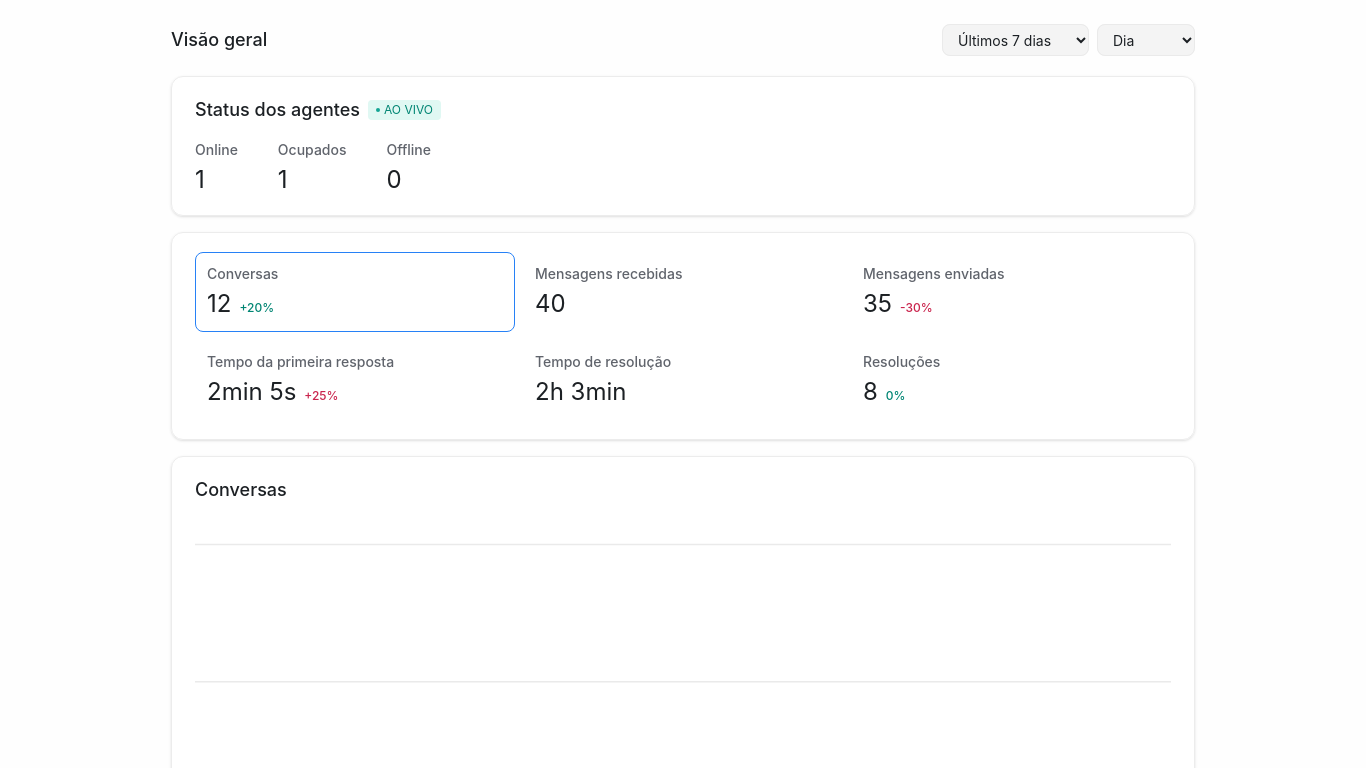
Test: reports overview › accepts a custom range and reports errors
The image size is (1366, 768).
Expected: the text "2min 5s" is shown, [207,376,296,408]
Select "Personalizado" in the dropdown named "Período" at coordinates (1016, 40), box [942,24,1089,56]
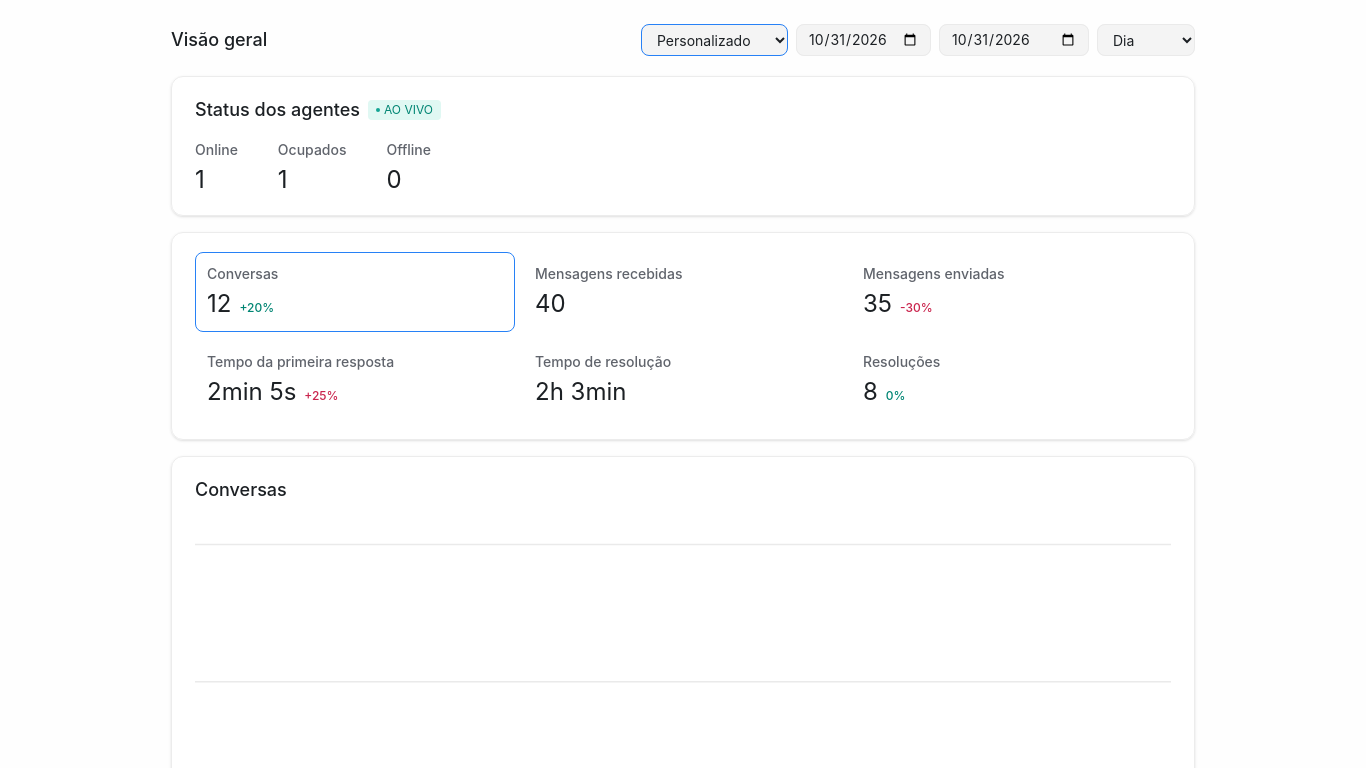
Type "2026-01-01" into the date field named "Data inicial" at coordinates (864, 40), box [796,24,931,56]
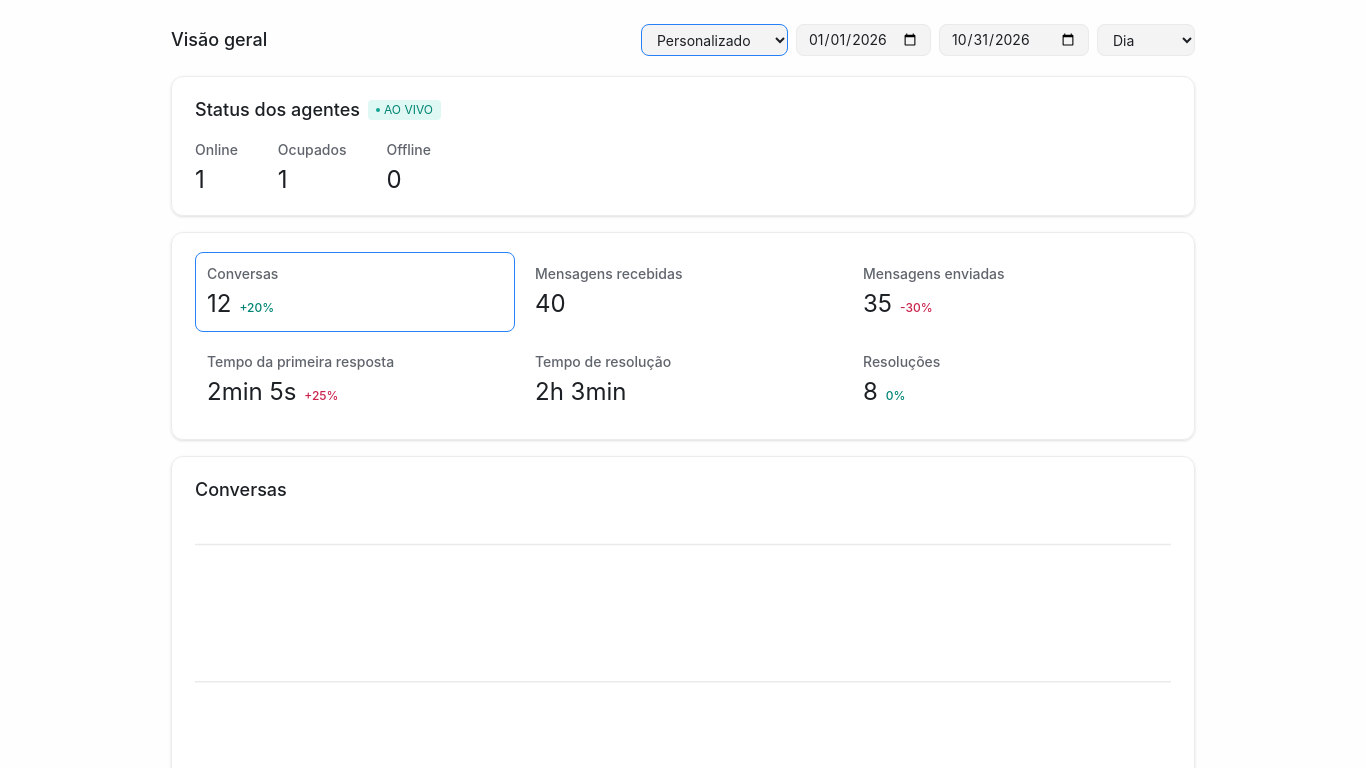
Type "2026-01-31" into the date field named "Data final" at coordinates (1014, 40), box [939,24,1089,56]
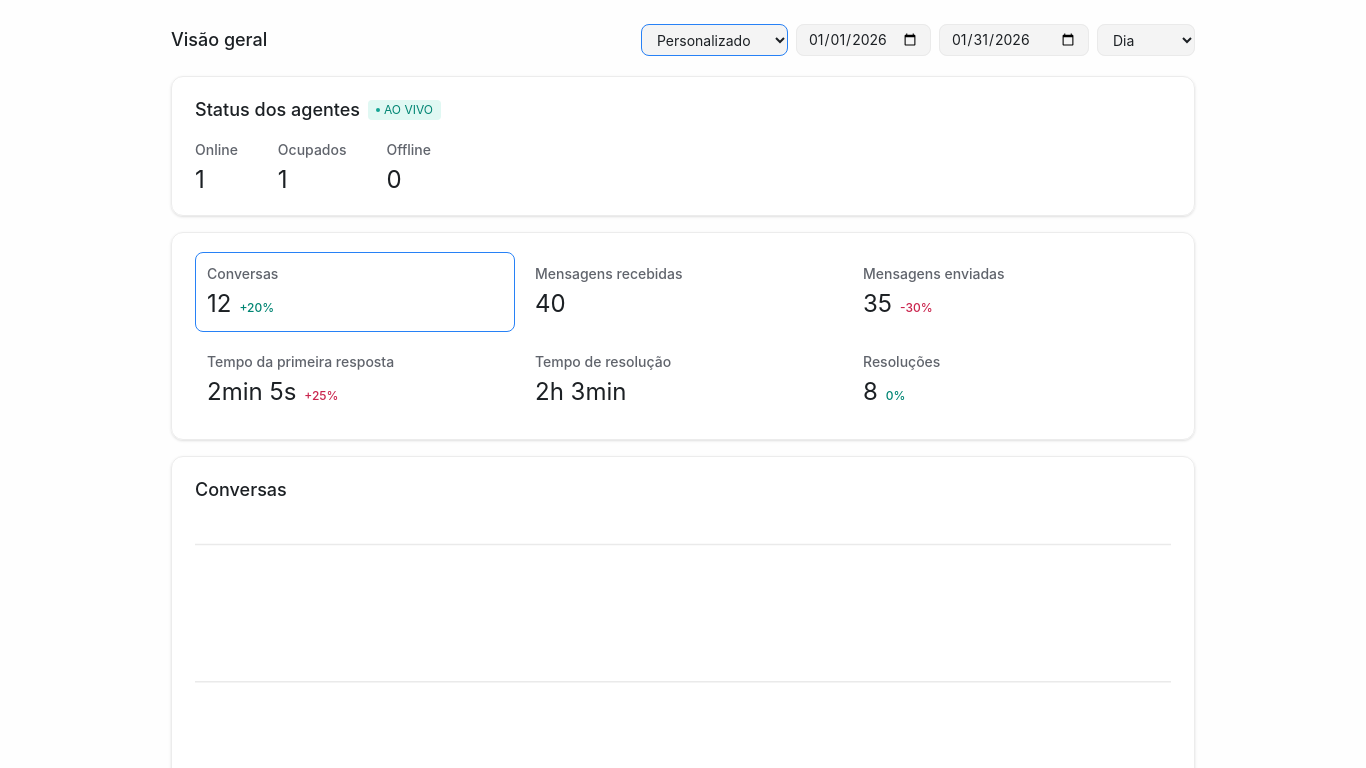
Select "Este mês" in the dropdown named "Período" at coordinates (714, 40), box [641,24,788,56]
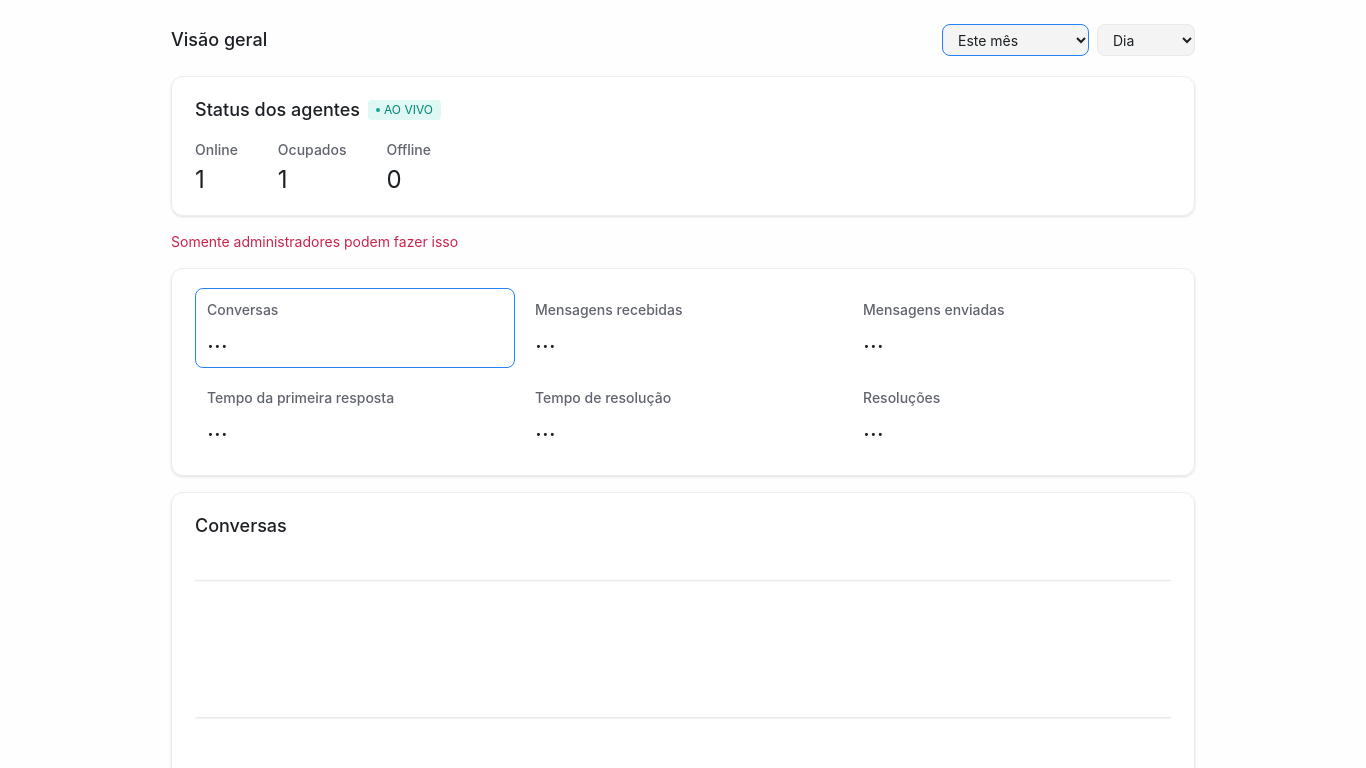
Result: the message reads "Somente administradores podem fazer isso" at [171,233,458,250]
